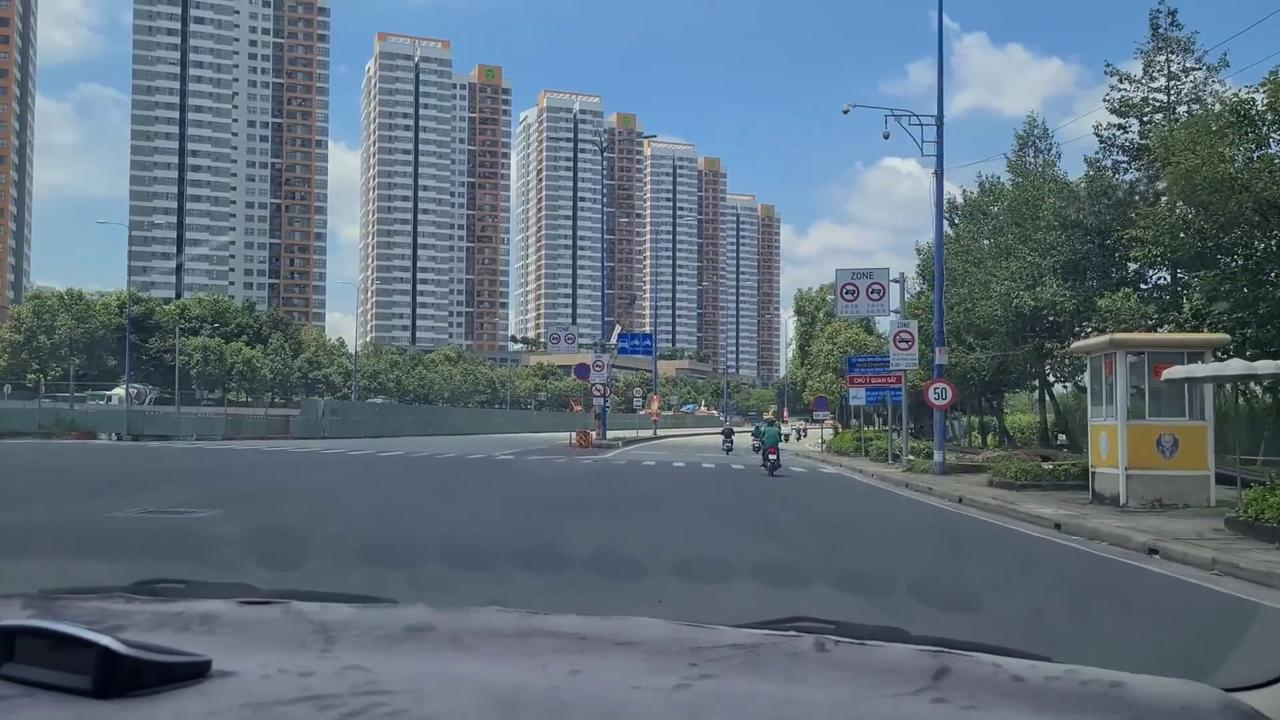Biển phụ: (634, 397, 642, 409)
Cấm cac phương tiện hoạt động trong khung giờ cố định: (832, 266, 891, 318), (888, 319, 920, 370), (546, 323, 580, 354), (589, 352, 607, 384)
Cấm dừng - Cấm đỗ: (573, 361, 591, 381), (812, 395, 831, 412)
Cấm xe máy: (590, 382, 606, 398)
Giới hạn tốc độ 50Km/h: (922, 377, 956, 412)
Giới hạn tốc độ 80Km/h: (632, 386, 644, 397)
Khác: (846, 353, 907, 405)
Làn đường cho từng xe: (616, 332, 654, 358)
